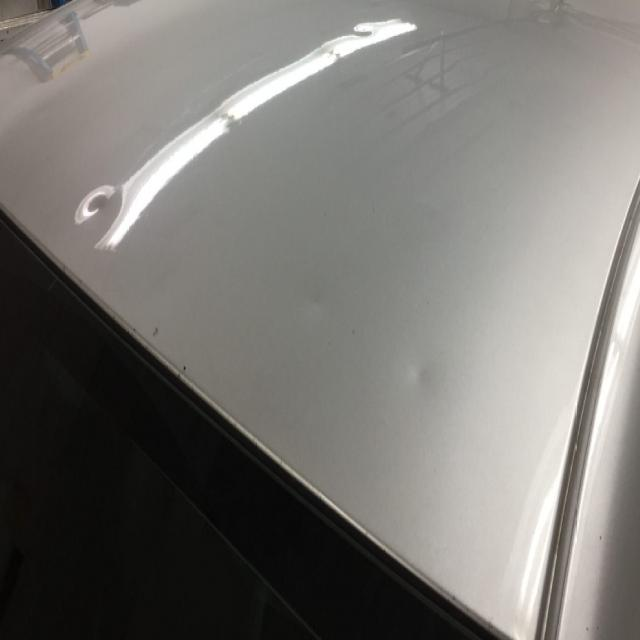dents: (78, 168, 128, 255), (399, 333, 440, 411), (302, 266, 337, 337)
